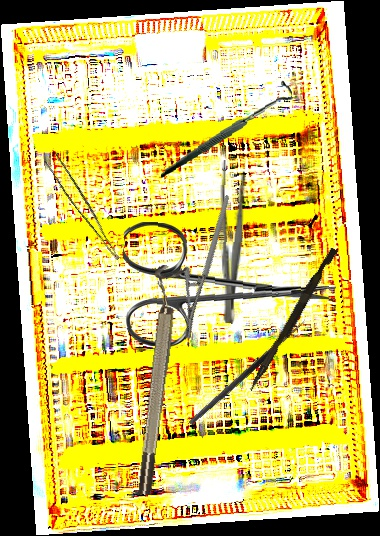Dressing Forceps: (216, 160, 247, 324)
Fixation Ring: (124, 263, 187, 497)
Hook Surgical: (183, 311, 308, 427), (153, 79, 299, 178)
Iris Scissors: (119, 221, 339, 353)
Needle Holder: (145, 194, 271, 342)
Pusher: (247, 245, 339, 395)
Tissue Forceps: (41, 152, 131, 261)
